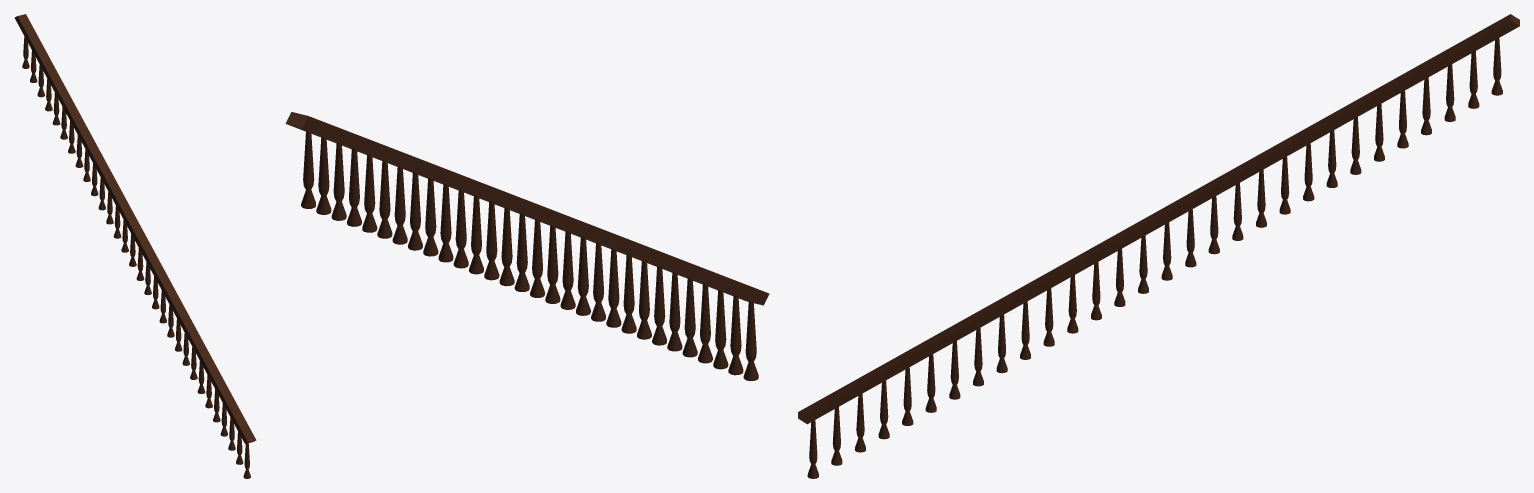
The model's file is hand rail stairs.fbx.
3 views of the same model, side by side, from view 1: azimuth 30°, elevation 25°; view 2: azimuth 150°, elevation 25°; view 3: azimuth 270°, elevation 25° (orthographic). The views are drawn at different scales.
Parts seen in each view (by area): view 1: Cube.018, Cylinder.005; view 2: Cylinder.005, Cube.018; view 3: Cylinder.005, Cube.018.
Part boxes in pixels (left/top/right/bottom): Cube.018: left=14, top=14, right=256, bottom=443; Cylinder.005: left=22, top=36, right=250, bottom=478; Cylinder.005: left=301, top=130, right=758, bottom=380; Cube.018: left=285, top=112, right=769, bottom=305; Cylinder.005: left=807, top=38, right=1502, bottom=478; Cube.018: left=798, top=14, right=1519, bottom=424.
Size of the model in its own units: 107 by 3562 by 5073.
